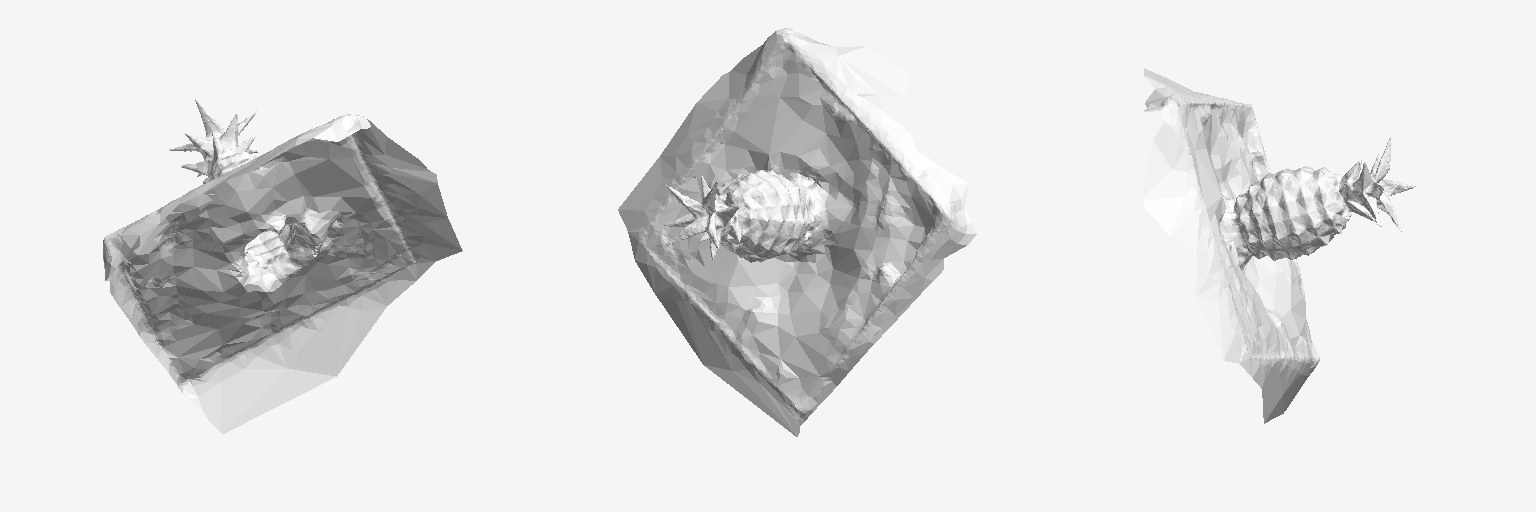
The model's file is pineapple2.obj.
3 views of the same model, side by side, from view 1: azimuth 30°, elevation 25°; view 2: azimuth 150°, elevation 25°; view 3: azimuth 270°, elevation 25° (orthographic).
Size of the model in its own units: 2.1 by 1.94 by 1.39.